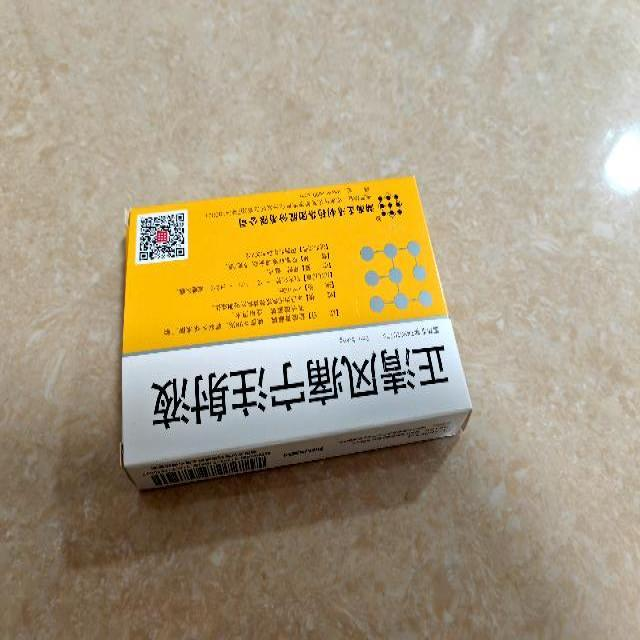box: (118, 174, 472, 493)
